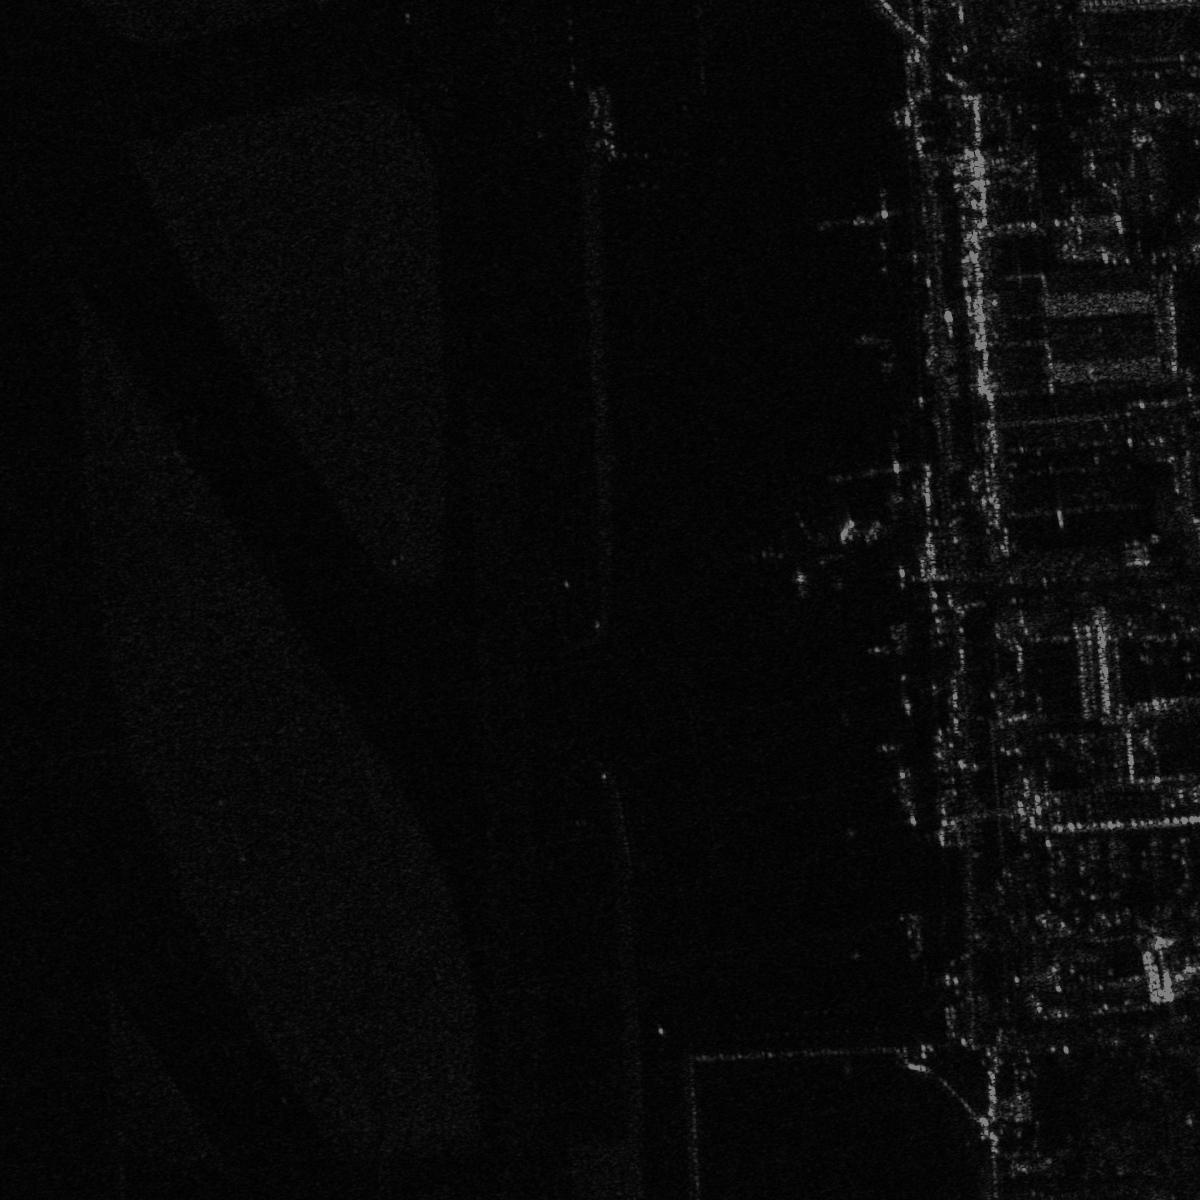A220: (742, 500, 888, 600)
